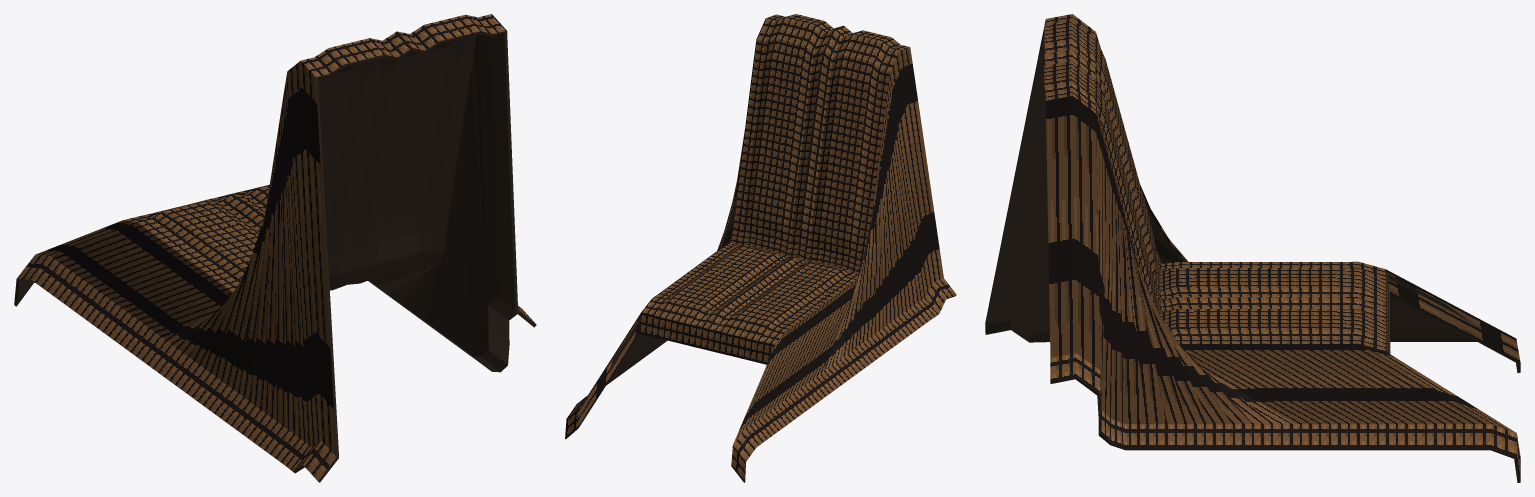
The model's file is seatcover_beaded_classic.glb.
The picture shows the model from 3 angles, left to right: view 1: azimuth 30°, elevation 25°; view 2: azimuth 150°, elevation 25°; view 3: azimuth 270°, elevation 25°; orthographic projection. The views are drawn at different scales.
Visible parts, largest first — view 1: SeatCover; view 2: SeatCover; view 3: SeatCover.
Part boxes in pixels (x1,y1,x2,y2): SeatCover: (14, 14, 536, 482); SeatCover: (565, 14, 956, 482); SeatCover: (985, 14, 1520, 482).
Size of the model in its own units: 0.4801 by 0.7702 by 0.9868.
Materials: 2 (1 with a texture image).
